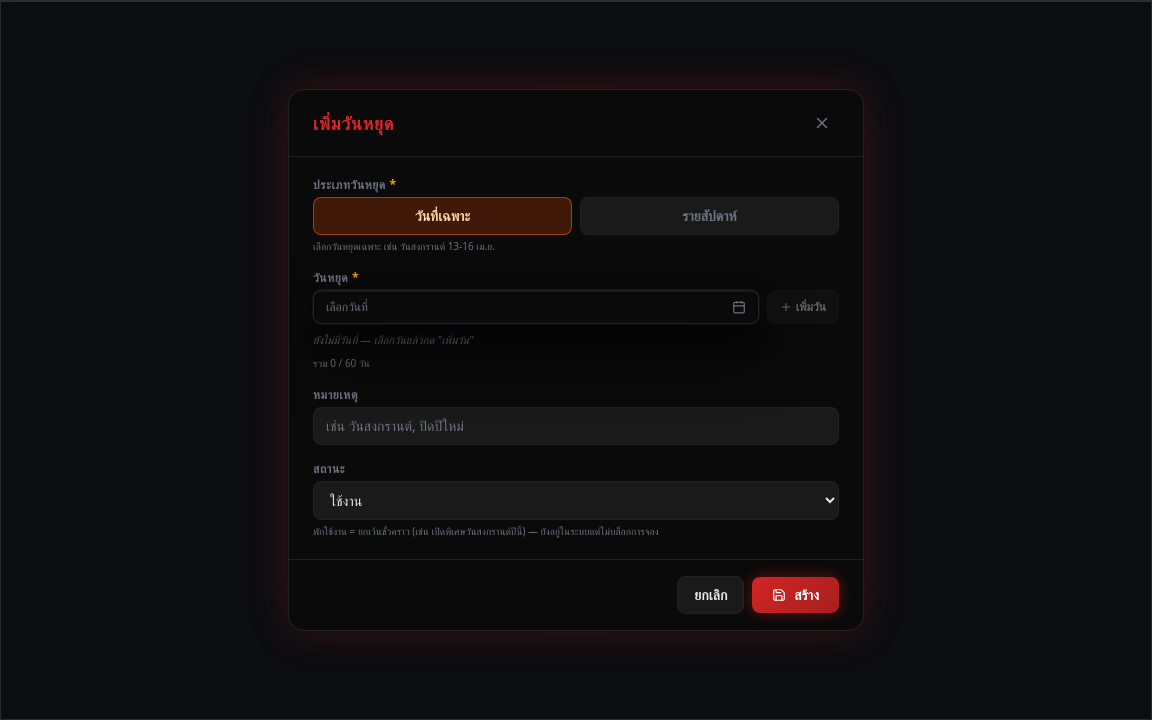
Test: HolidayFormModal — HM1..HM7 › HM2: switch to weekly reveals day-of-week grid
Step 1. Click the button "รายสัปดาห์" → {"x": 710, "y": 216}, box top-left (580, 197), bottom-right (839, 235)
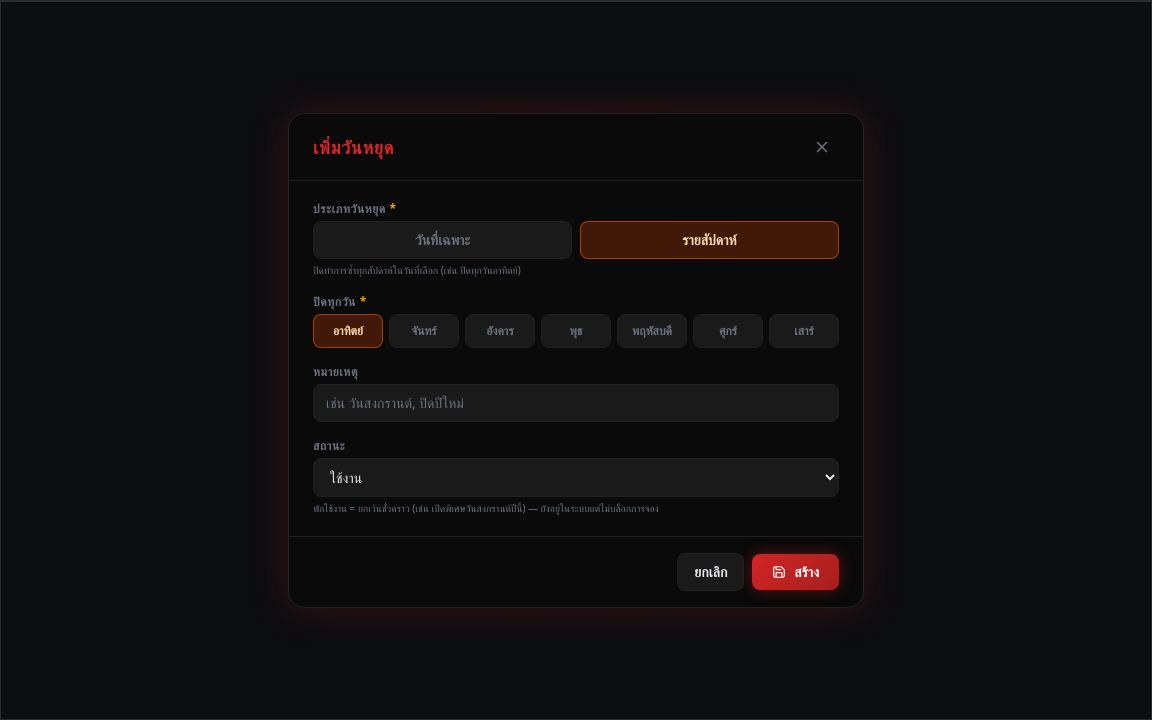
expect the button "อาทิตย์" is shown: met, box top-left (313, 314), bottom-right (383, 348)
expect the button "จันทร์" is shown: met, box top-left (389, 314), bottom-right (459, 348)
expect the button "อังคาร" is shown: met, box top-left (465, 314), bottom-right (535, 348)
